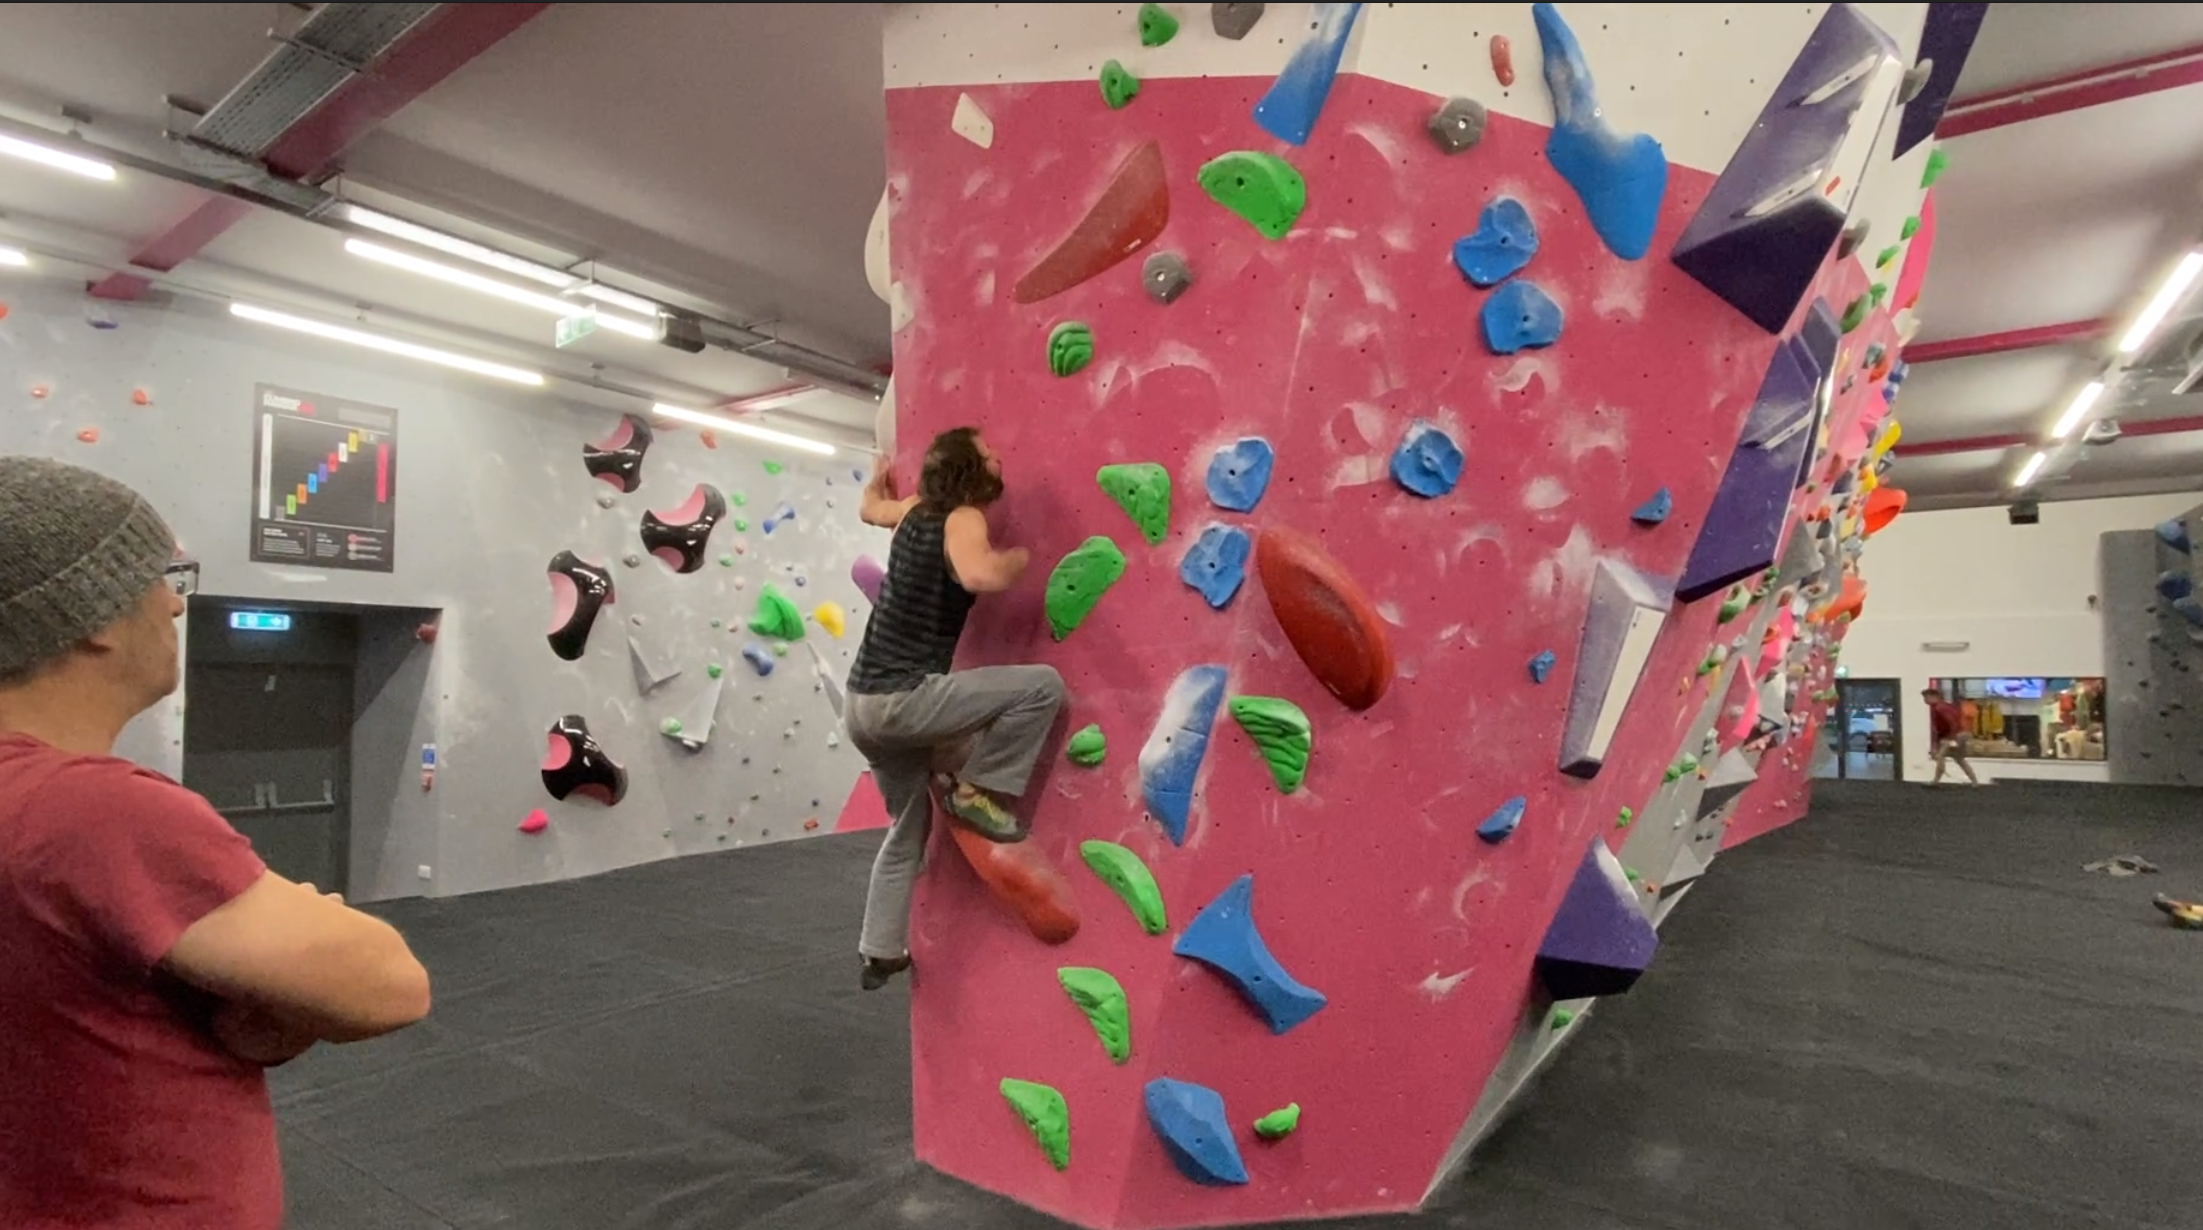hold: (1505, 2, 1686, 275), (1248, 511, 1407, 722), (1164, 856, 1335, 1047), (1008, 136, 1173, 304), (1123, 654, 1238, 850), (1130, 1068, 1251, 1198), (1191, 147, 1325, 259), (1027, 525, 1132, 645), (1074, 831, 1182, 940), (531, 710, 640, 815), (539, 539, 623, 669), (1049, 952, 1142, 1068), (1446, 185, 1543, 290), (1471, 266, 1578, 362), (996, 1065, 1088, 1174), (1086, 452, 1188, 551), (639, 475, 732, 578), (578, 401, 664, 502), (1390, 407, 1471, 511), (1173, 511, 1254, 613), (1195, 428, 1282, 522), (744, 575, 825, 666), (1035, 316, 1101, 383), (946, 89, 1005, 162), (1466, 784, 1528, 850), (1481, 27, 1530, 98), (1251, 1094, 1307, 1154), (1055, 716, 1111, 772), (1085, 53, 1139, 110), (511, 803, 563, 844), (1527, 638, 1563, 688), (1610, 794, 1637, 834)
